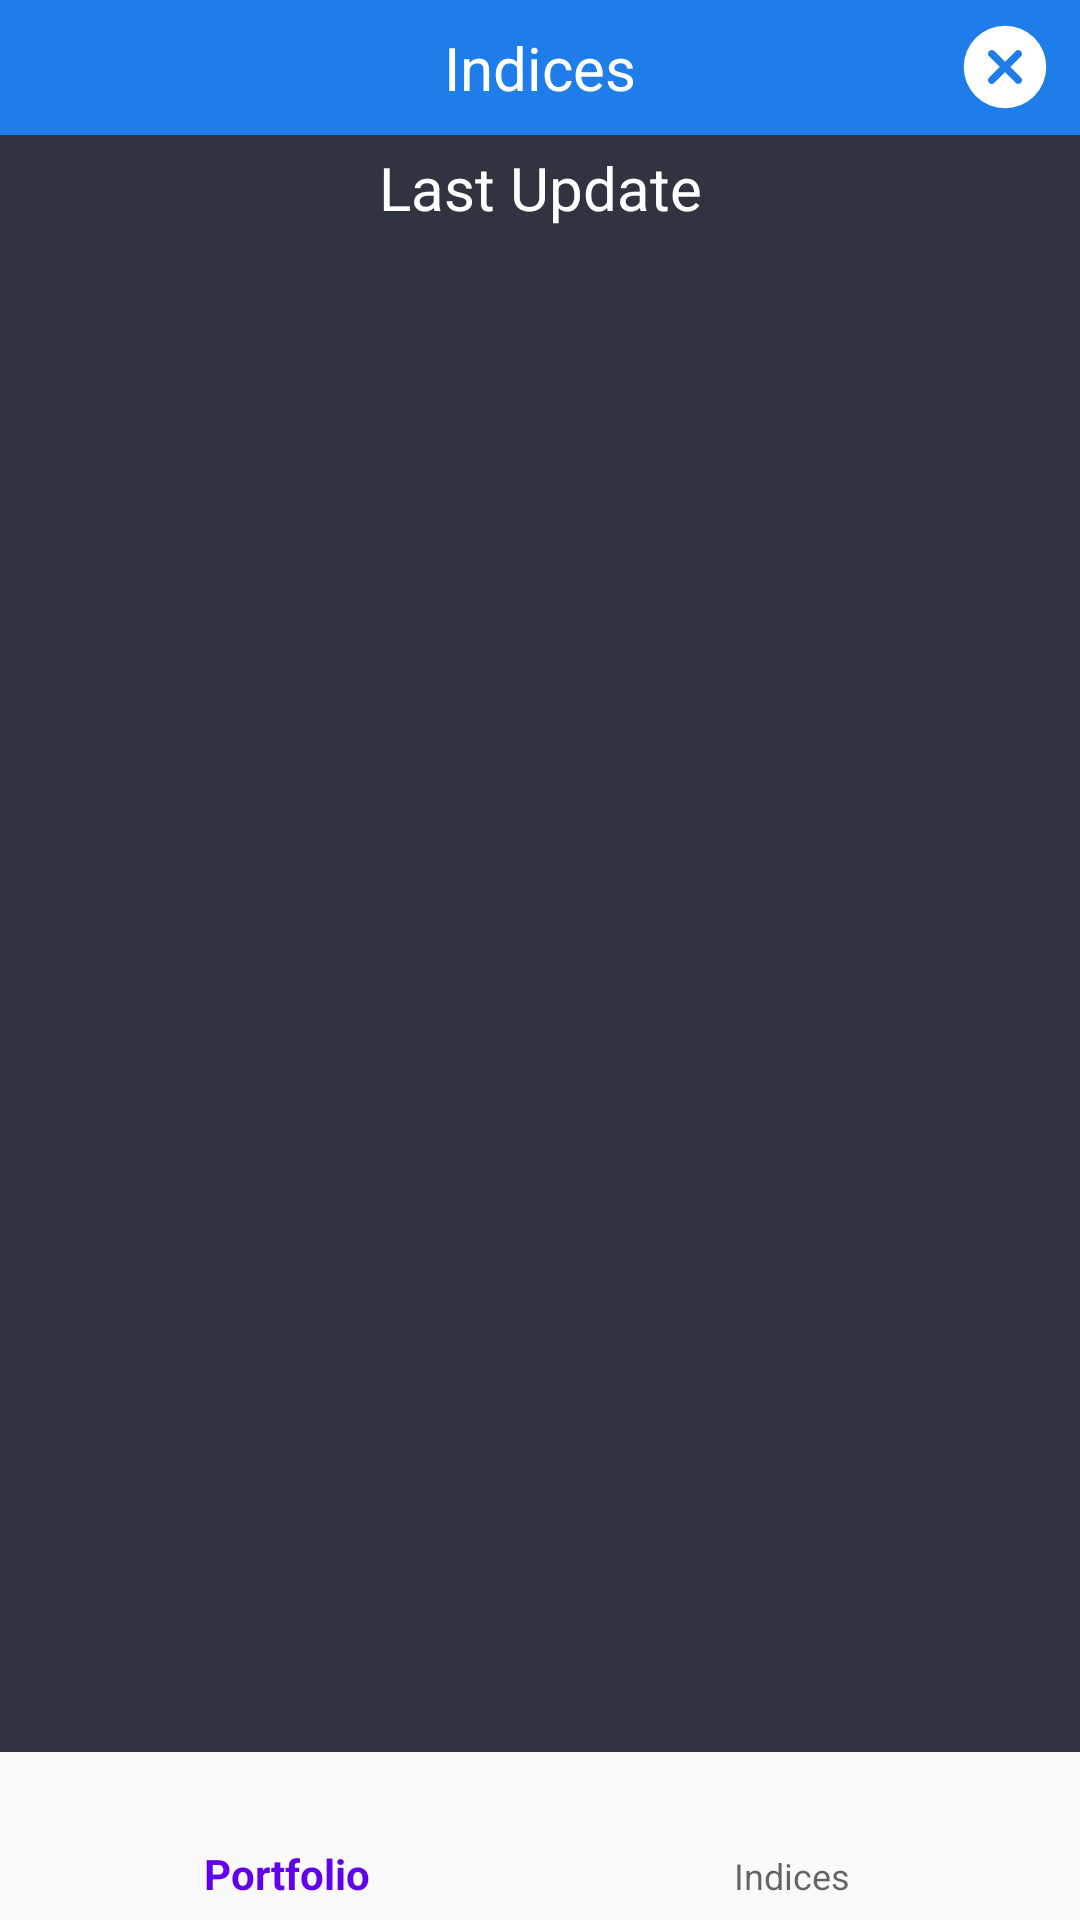

Named icons in this screenshot (1080*1920) and their centers, (x,y):
close circle: (1005,67)
